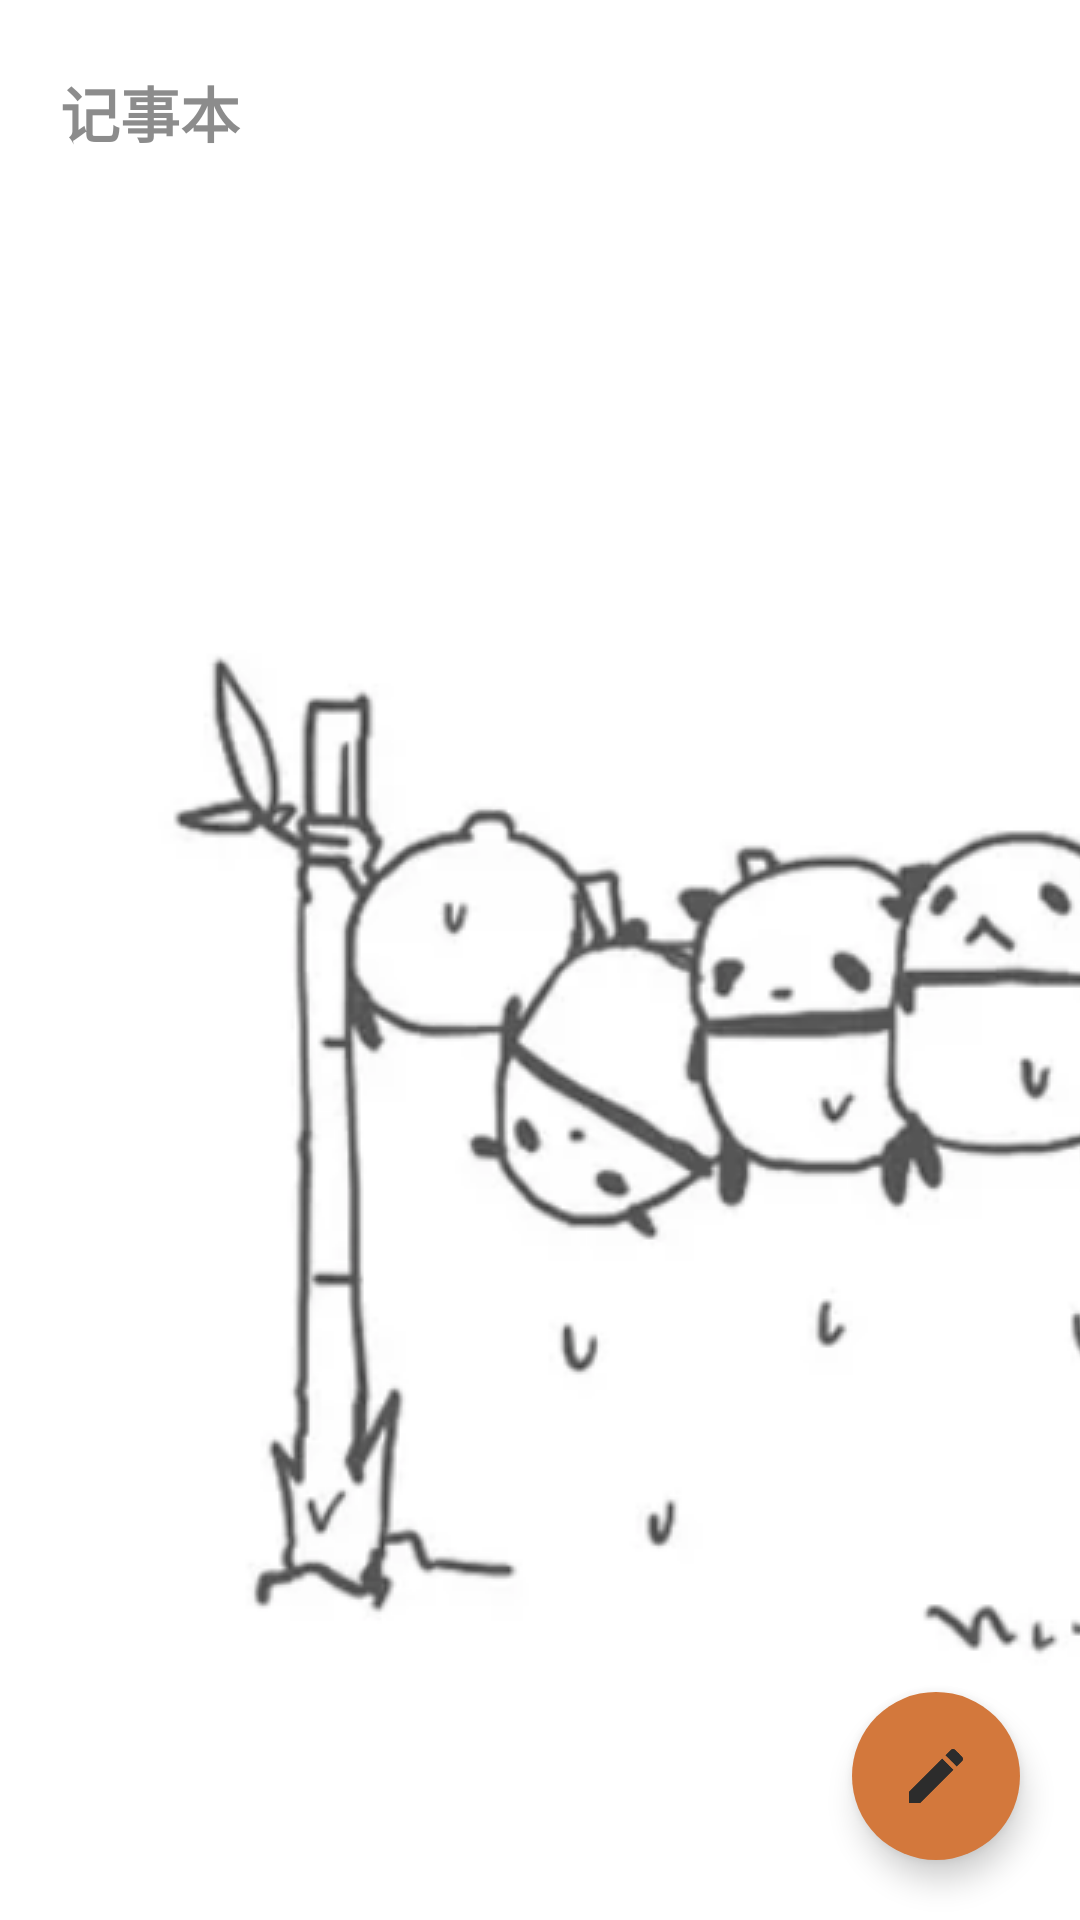

Icon bounding boxes for this 1080*1920 phone screenshot, format (left=x1, top=y1, right=x2, bottom=y2):
create: (left=852, top=1692, right=1020, bottom=1860)
